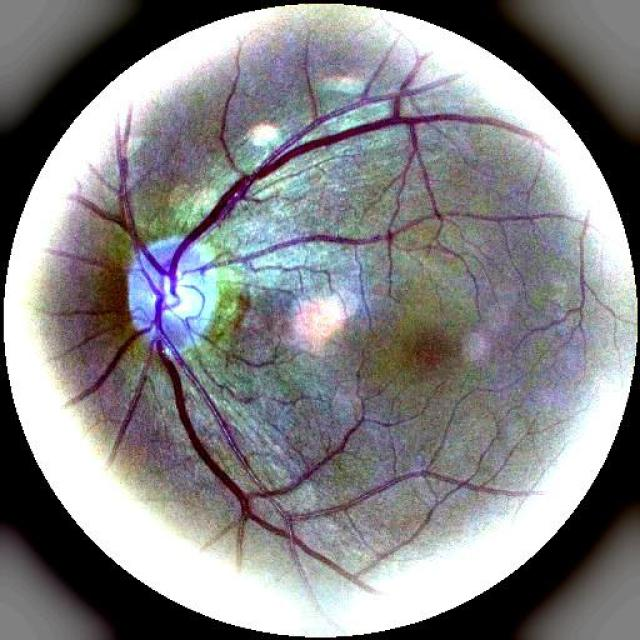Macula: (414, 335, 452, 368)
Nerves: (68, 110, 530, 582)
Optic Disk: (129, 256, 216, 340), (151, 240, 179, 259)
